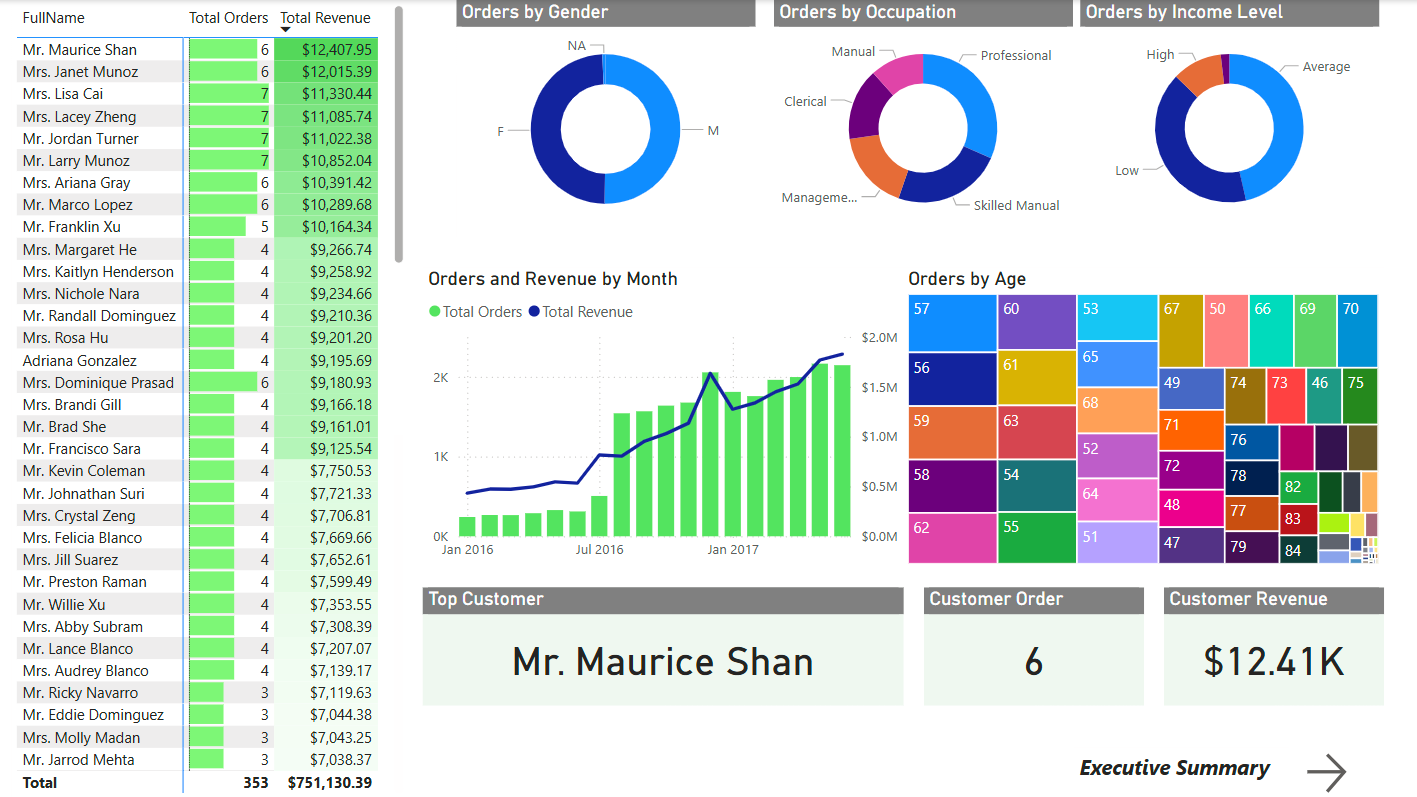

The dashboard page shown, as its layout file describes it:
{"tool":"powerbi","page":{"name":"Customer Detail","canvas":[1280,720],"ordinal":2},"visuals":[{"type":"pivotTable","fields":{"Rows":["AW_Customer_Lookup.FullName"],"Values":["AW_Sales.Total Orders","AW_Sales.Total Revenue"]},"box":[10.8,0,358.5,720],"z":0},{"type":"donutChart","title":"Orders by Income Level","fields":{"Category":["AW_Customer_Lookup.Income_Level"],"Y":["AW_Sales.Total Orders"]},"box":[975.4,0,269.2,212.3],"z":1000},{"type":"donutChart","title":"Orders by Occupation","fields":{"Y":["AW_Sales.Total Orders"],"Category":["AW_Customer_Lookup.Occupation"]},"box":[698.5,0,269.2,212.3],"z":2000},{"type":"donutChart","title":"Orders by Gender","fields":{"Y":["AW_Sales.Total Orders"],"Category":["AW_Customer_Lookup.Gender"]},"box":[412.3,0,269.2,213.8],"z":3000},{"type":"lineClusteredColumnComboChart","title":"Orders and Revenue by Month","fields":{"Y":["AW_Sales.Total Orders"],"Category":["AW_Calendar_Lookup.Start of Month"],"Y2":["AW_Sales.Total Revenue"]},"box":[381.5,241.5,433.8,272.3],"z":4000},{"type":"treemap","title":"Orders by Age","fields":{"Values":["AW_Sales.Total Orders"],"Group":["AW_Customer_Lookup.Current Age"]},"box":[815.4,241.5,433.8,272.3],"z":5000},{"type":"card","title":"Top Customer","fields":{"Values":["AW_Customer_Lookup.FullName"]},"box":[381.5,529.2,433.8,106.2],"z":6000},{"type":"card","title":"Customer Order","fields":{"Values":["AW_Sales.Total Orders"]},"box":[833.8,529.2,198.5,106.2],"z":7000},{"type":"card","title":"Customer Revenue","fields":{"Values":["AW_Sales.Total Revenue"]},"box":[1050.8,529.2,198.5,106.2],"z":8000},{"type":"textbox","box":[969.2,673.8,193.8,46.2],"z":9000},{"type":"actionButton","box":[1173.8,673.8,106.2,46.2],"z":10000}]}

Visuals, with their boxes in screenshot pixels (x1, y1, x2, y2), scaled from the page's 1280x720 canvas onto the 1417x797 screenshot:
pivotTable - AW_Customer_Lookup.FullName x AW_Sales.Total Orders: (x1=12, y1=0, x2=409, y2=796)
"Orders by Income Level" donutChart: (x1=1080, y1=0, x2=1378, y2=235)
"Orders by Occupation" donutChart: (x1=773, y1=0, x2=1071, y2=235)
"Orders by Gender" donutChart: (x1=456, y1=0, x2=754, y2=237)
"Orders and Revenue by Month" lineClusteredColumnComboChart: (x1=422, y1=267, x2=903, y2=569)
"Orders by Age" treemap: (x1=903, y1=267, x2=1383, y2=569)
"Top Customer" card: (x1=422, y1=586, x2=903, y2=703)
"Customer Order" card: (x1=923, y1=586, x2=1143, y2=703)
"Customer Revenue" card: (x1=1163, y1=586, x2=1383, y2=703)
textbox: (x1=1073, y1=746, x2=1287, y2=796)
actionButton: (x1=1299, y1=746, x2=1416, y2=796)
